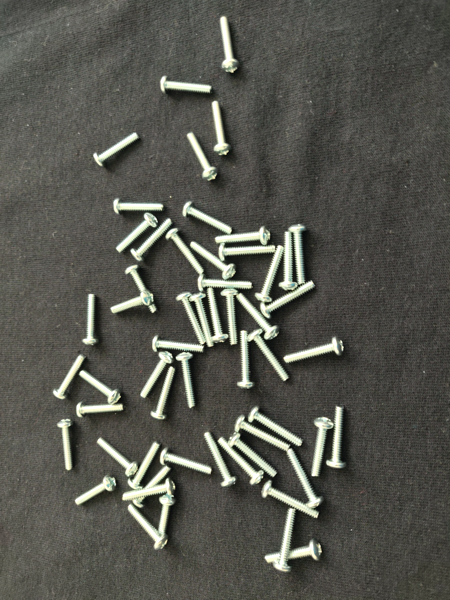longscrew: (287, 448, 328, 510), (248, 405, 305, 448), (218, 436, 266, 487), (227, 432, 279, 479), (261, 480, 321, 520), (247, 328, 291, 382), (260, 280, 317, 320), (234, 414, 292, 453), (236, 292, 281, 341), (130, 218, 174, 263), (128, 504, 170, 551), (165, 228, 206, 275), (204, 432, 239, 487), (189, 241, 238, 280), (132, 463, 174, 508), (182, 200, 234, 235), (116, 213, 160, 254), (185, 132, 220, 183), (93, 131, 141, 168), (255, 244, 285, 303), (125, 264, 159, 316), (97, 437, 140, 478), (175, 291, 207, 346), (273, 508, 299, 575), (140, 351, 176, 399), (284, 337, 345, 365), (128, 441, 161, 490), (310, 417, 336, 478), (53, 354, 87, 400), (264, 539, 324, 565), (79, 370, 122, 405), (326, 405, 349, 470), (159, 448, 214, 475), (150, 366, 177, 420), (189, 292, 215, 348), (74, 474, 117, 506), (122, 477, 177, 502), (206, 287, 230, 344), (219, 15, 242, 74), (288, 223, 308, 287), (175, 351, 197, 409), (211, 100, 233, 157), (159, 75, 215, 97), (215, 226, 273, 247), (236, 330, 256, 390), (111, 289, 155, 316), (279, 231, 298, 292), (218, 243, 277, 262), (198, 273, 254, 293), (221, 289, 240, 346), (152, 335, 206, 354), (82, 293, 101, 346), (56, 419, 75, 471), (75, 400, 126, 419), (112, 198, 165, 215), (158, 494, 177, 540)
